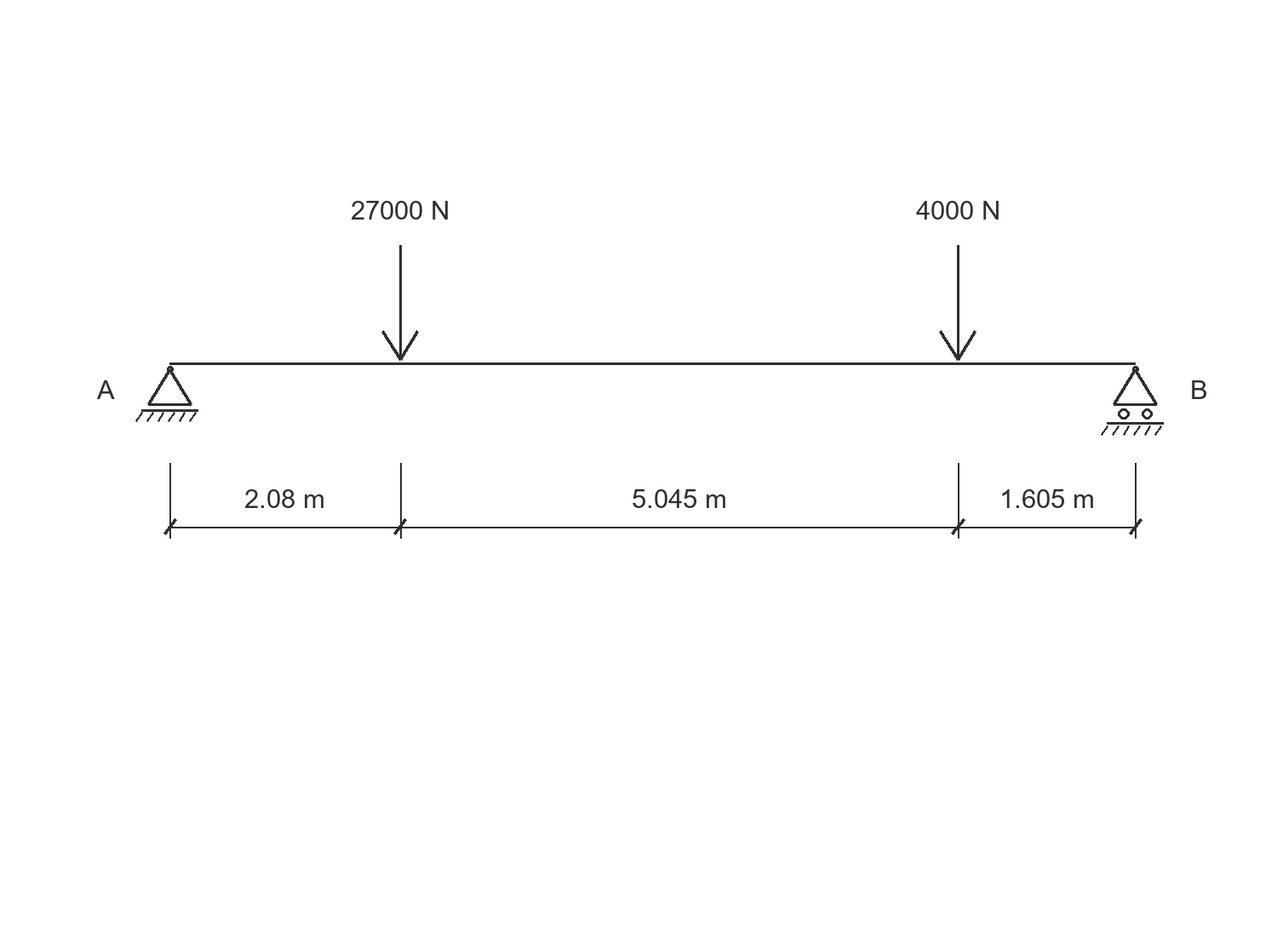pin_support: (135, 366, 198, 422)
point_load: (381, 245, 419, 361), (939, 245, 976, 361)
roller_support: (1101, 366, 1164, 436)
